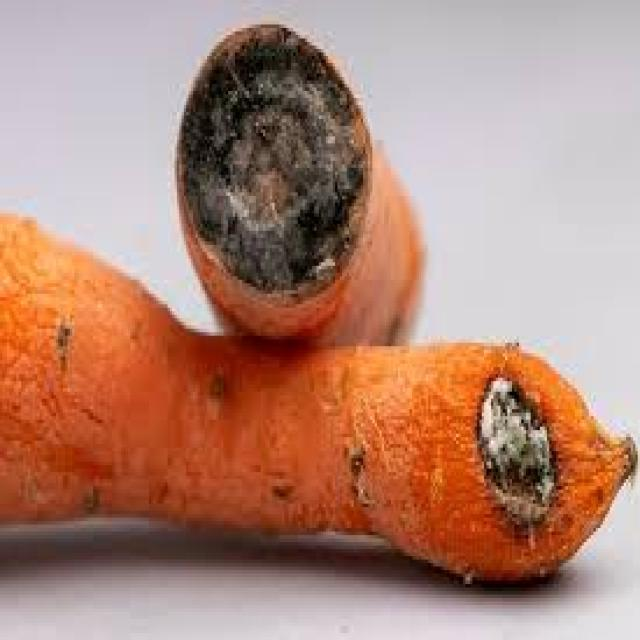Stale_Carrot: (0, 215, 638, 573), (184, 135, 435, 344), (180, 28, 369, 302)
